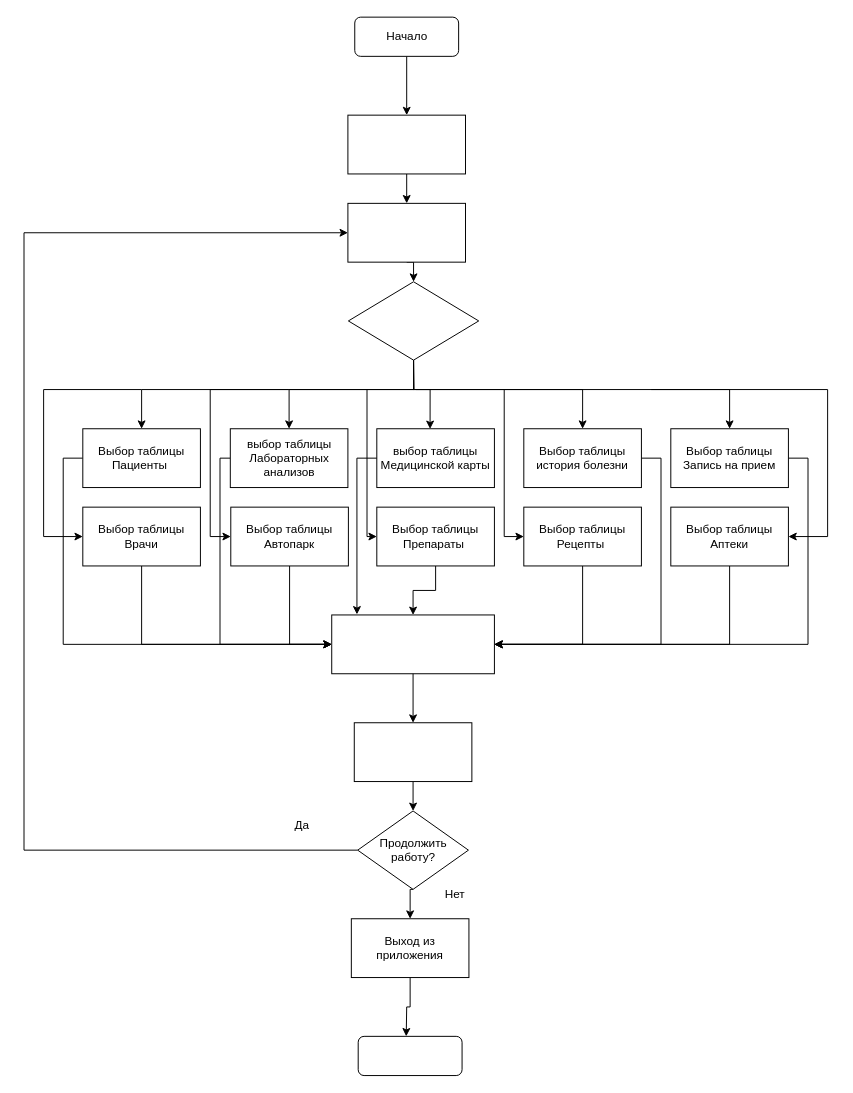
This 853x1093 diagram has some shape labels left out. The shapes that lost their labels are listed below. From the top down, each one's box as (x1, y1, x2, y2) in pixels, then its label:
(347, 114, 466, 174): Запуск приложения
(347, 202, 466, 262): Переход в главное меню
(347, 281, 479, 360): Выбор Таблицы
(331, 614, 494, 674): Добавление/Изменение/Удаление/Просомтр
(353, 722, 472, 782): Сохранение
(357, 1035, 462, 1076): Конец
